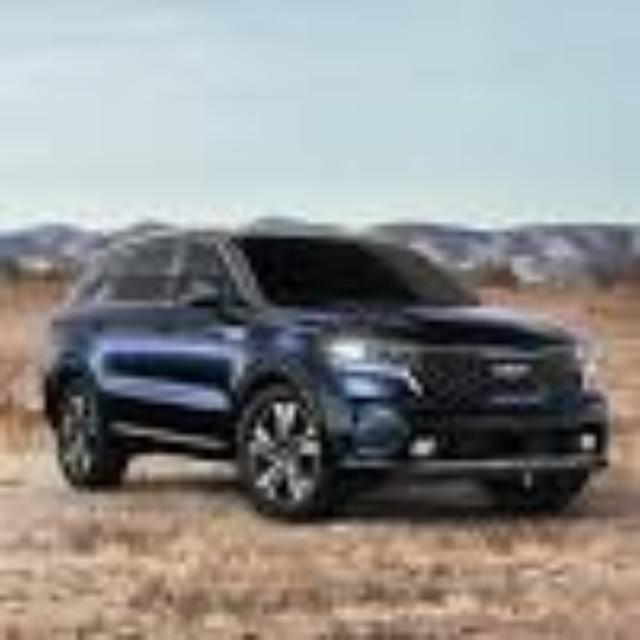kia: (45, 222, 608, 518)
